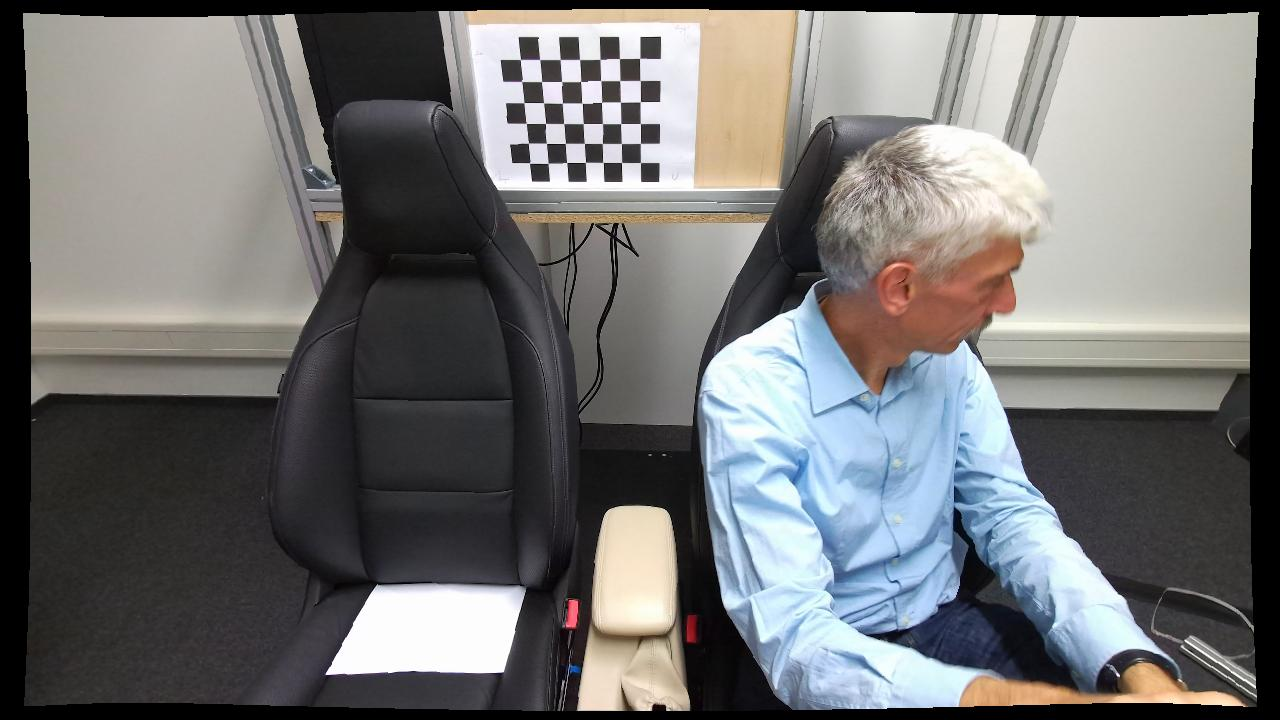Distracted: (692, 120, 1100, 710)
